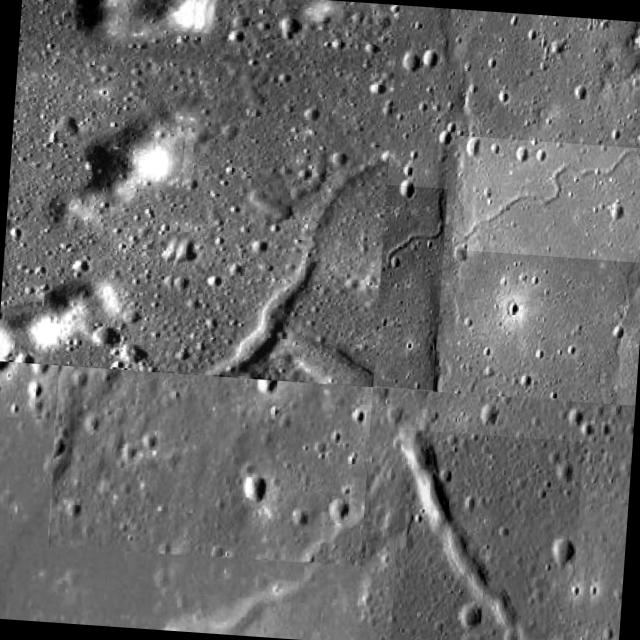rille: (3, 48, 393, 386), (390, 429, 583, 640), (451, 135, 640, 262), (372, 184, 448, 390)
